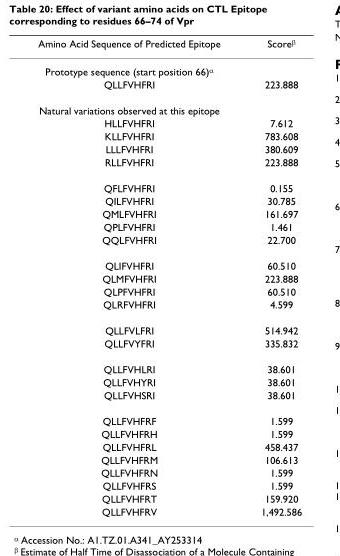table: (37, 36, 301, 517)
table column: (37, 36, 239, 517), (239, 36, 301, 517)
table column header: (37, 36, 301, 56)
table projected row header: (37, 56, 301, 77), (37, 96, 301, 116)
table row: (37, 56, 301, 77), (37, 36, 301, 56), (37, 96, 301, 116), (37, 174, 301, 194), (37, 232, 301, 252), (37, 297, 301, 317), (37, 355, 301, 375), (37, 407, 301, 427), (37, 77, 301, 96), (37, 155, 301, 174), (37, 252, 301, 271), (37, 317, 301, 336), (37, 336, 301, 355), (37, 388, 301, 407), (37, 116, 301, 129), (37, 129, 301, 142), (37, 142, 301, 155), (37, 206, 301, 219), (37, 219, 301, 232), (37, 271, 301, 284), (37, 284, 301, 297), (37, 375, 301, 388), (37, 439, 301, 452), (37, 452, 301, 465), (37, 465, 301, 478), (37, 478, 301, 491), (37, 491, 301, 504), (37, 504, 301, 517), (37, 194, 301, 206), (37, 427, 301, 439)
